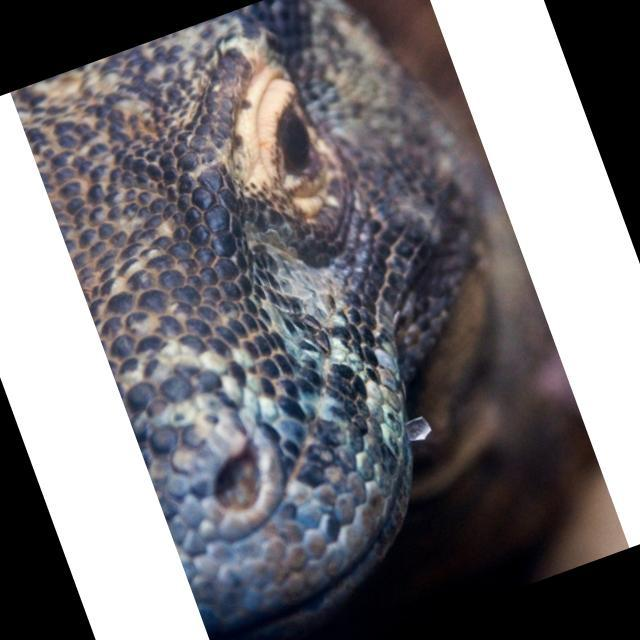KomodoDragon: (10, 0, 612, 640)
